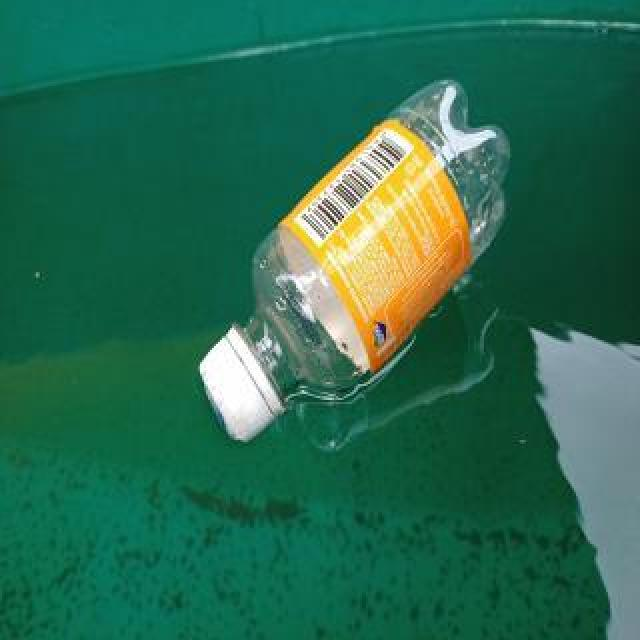bottle: (195, 73, 515, 447)
